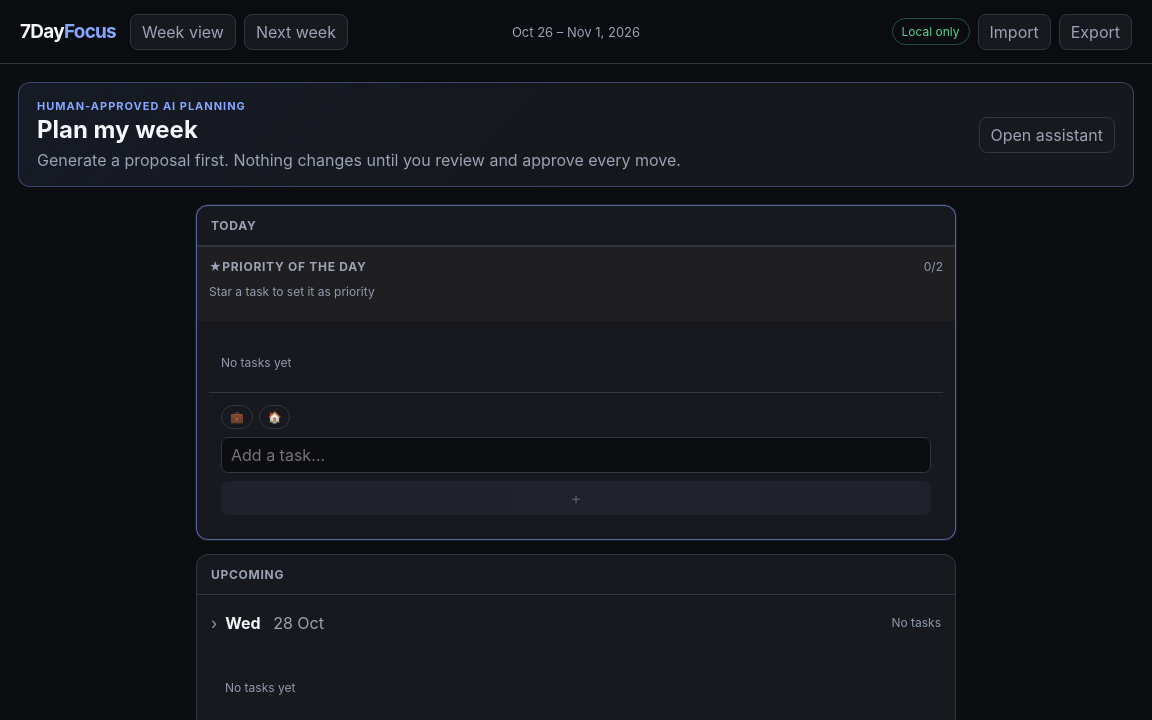
Test: P01 local planner smoke flow › describes completed tasks truthfully during rollover
Type "Completed work" into the field with placeholder "Add a task…".
click(576, 455); type("Completed work")  # box [221, 437, 931, 473]
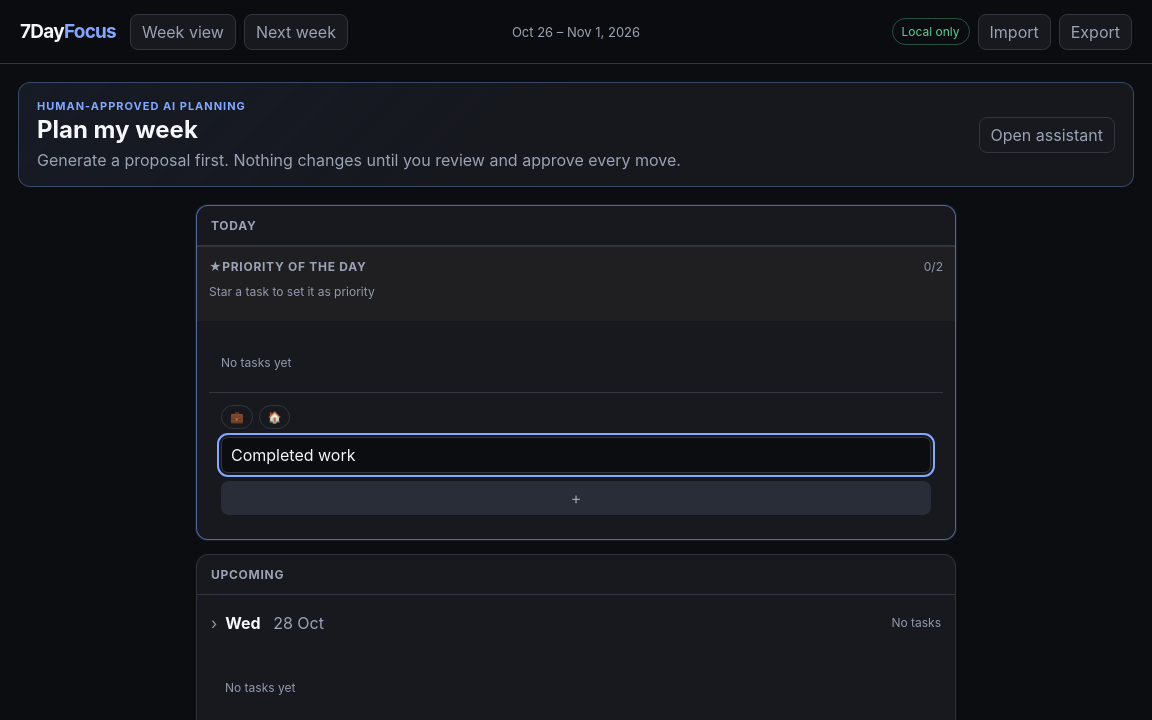
Click the button named "Add task".
click(576, 498)  # box [221, 481, 931, 515]
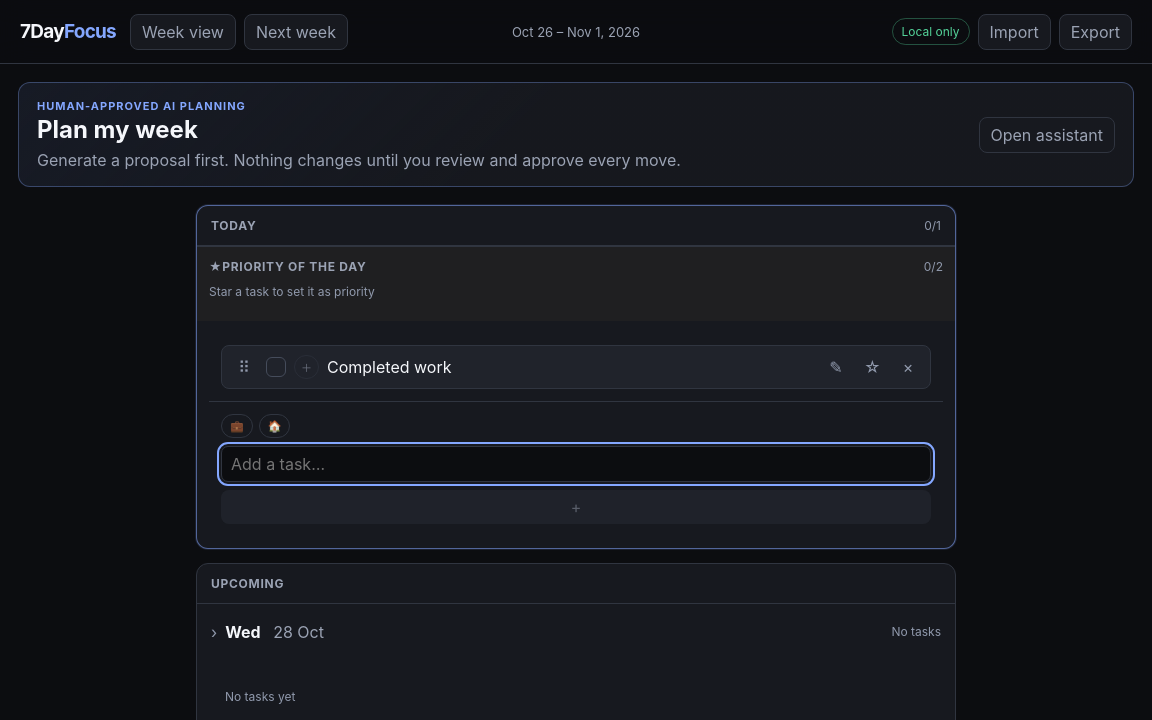
Click the button named "Mark complete: Completed work".
click(276, 367)  # box [266, 357, 286, 377]
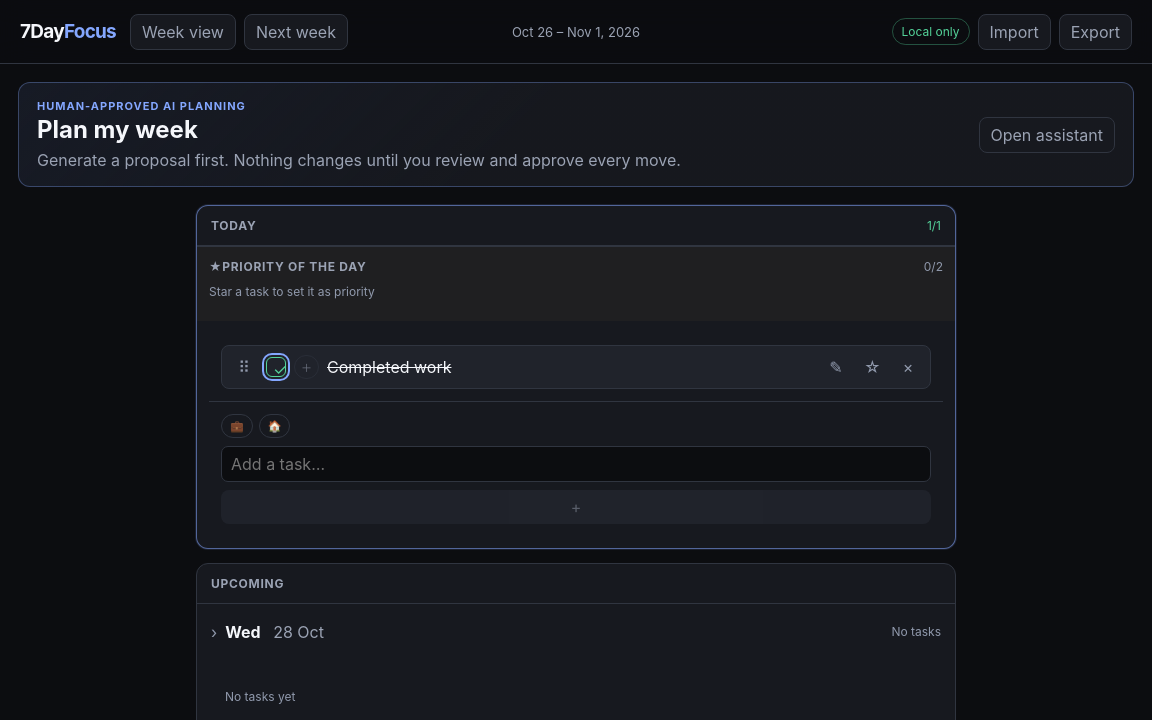
Click the button "Next week".
click(296, 32)  # box [244, 14, 348, 50]
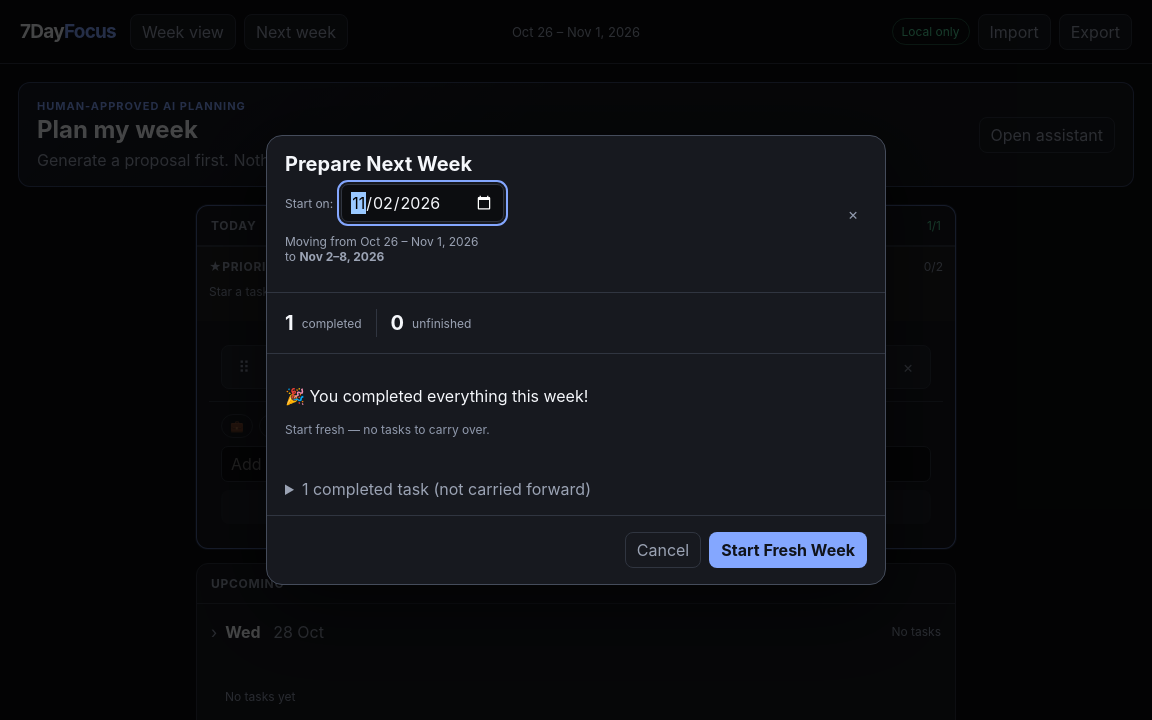
Check: the heading "1 completed task (not carried forward)" is shown, box [302, 479, 591, 499]
